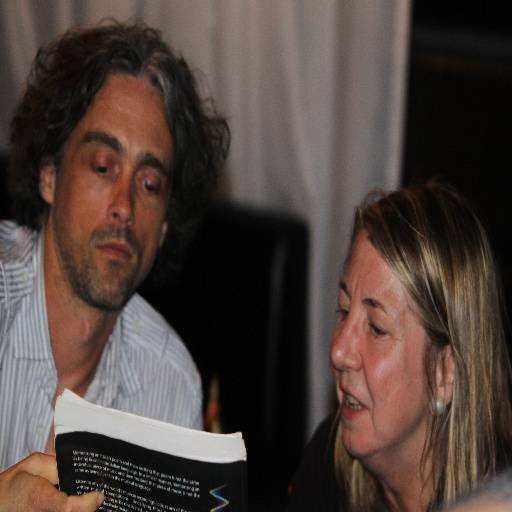hand: (0, 452, 105, 509)
